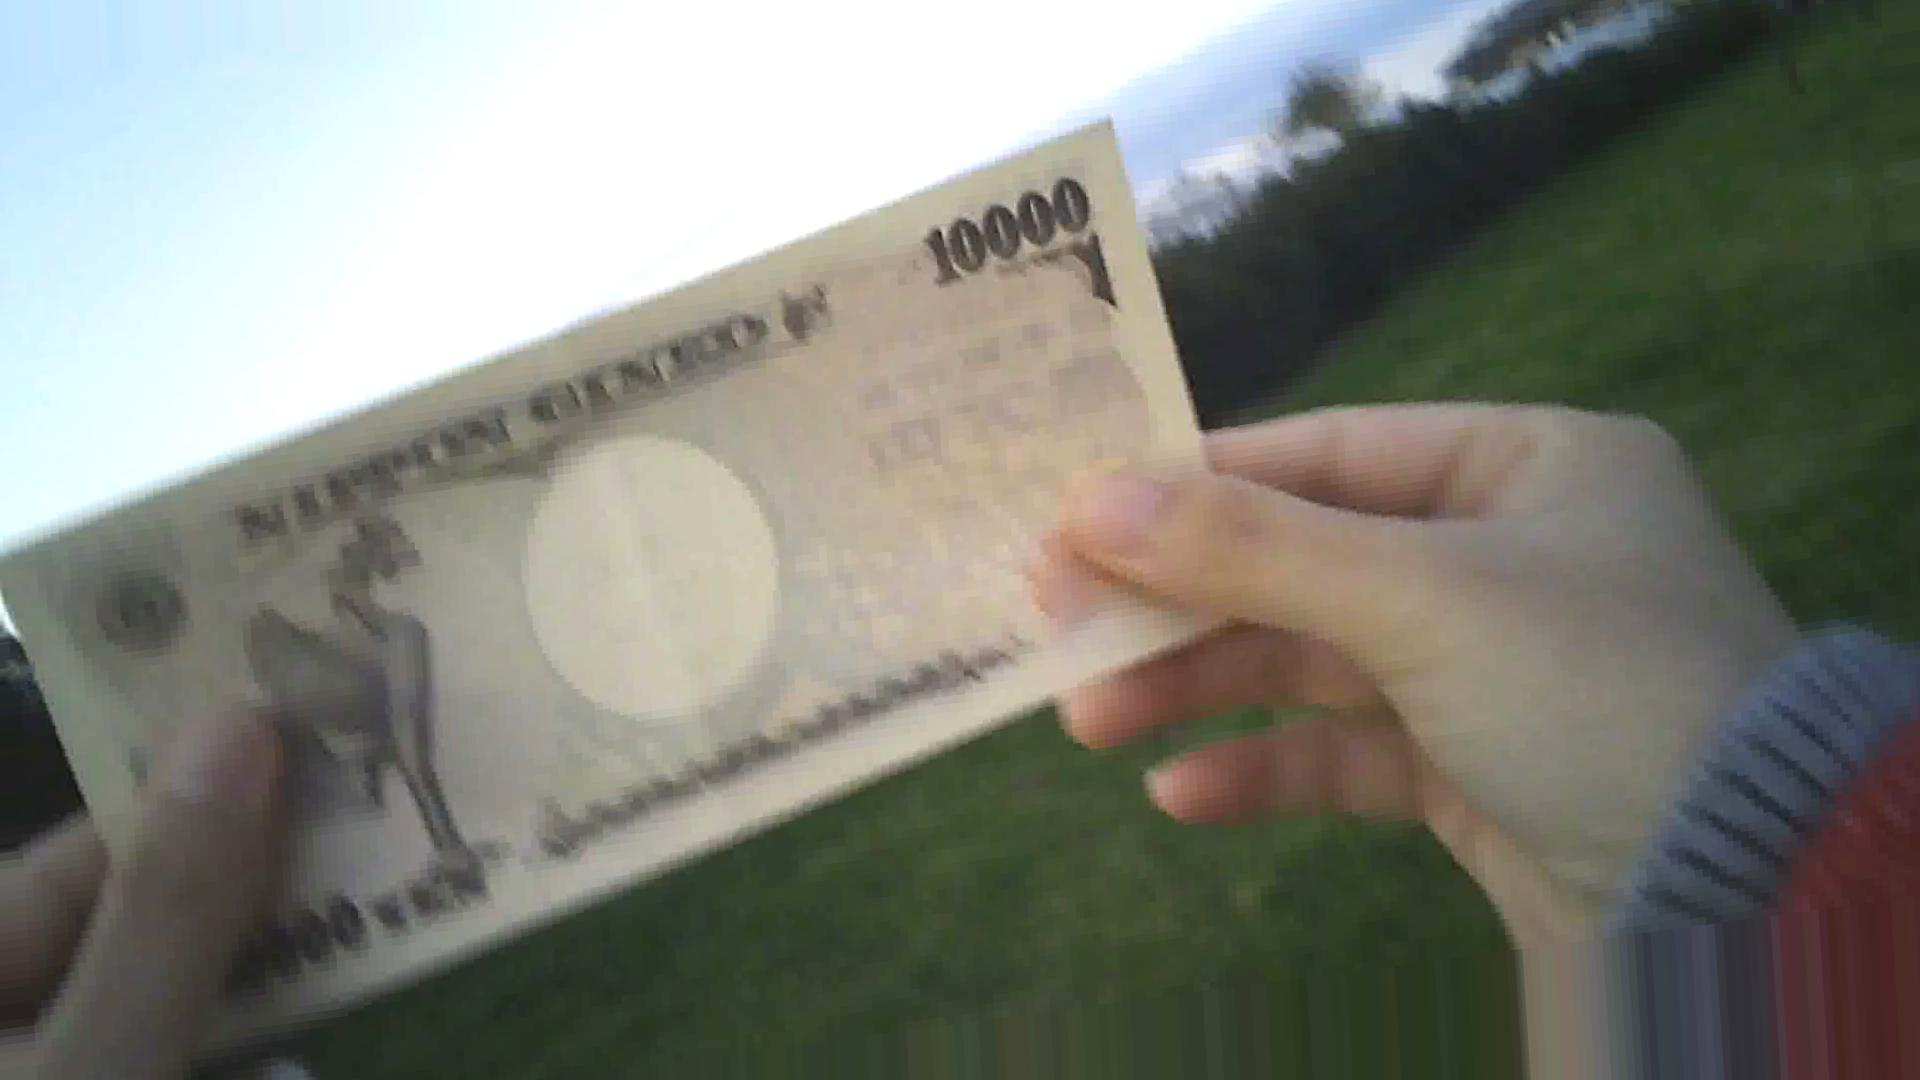10,000 Yen: (15, 138, 1211, 942)
